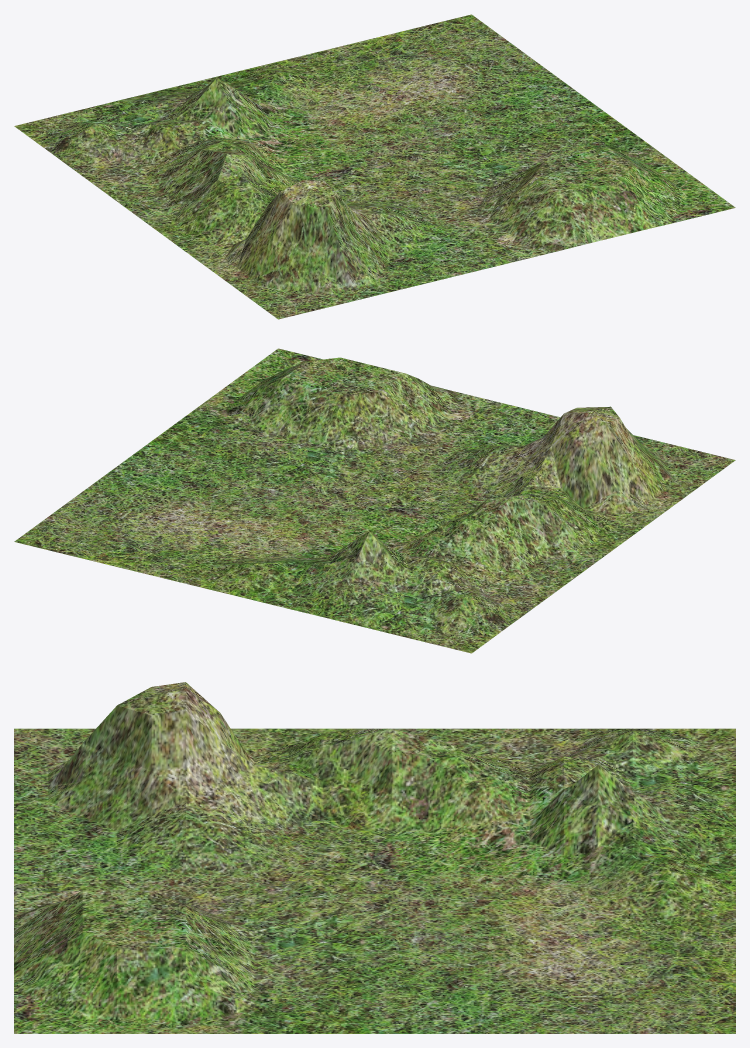
File: terrain.obj
The picture shows the model from 3 angles, top to bottom: view 1: azimuth 30°, elevation 25°; view 2: azimuth 150°, elevation 25°; view 3: azimuth 270°, elevation 25°; orthographic projection. The views are drawn at different scales.
Parts seen in each view (by area): view 1: Plane; view 2: Plane; view 3: Plane.
Part boxes in pixels (left/top/right/bottom): Plane: left=14, top=14, right=735, bottom=319; Plane: left=14, top=348, right=735, bottom=653; Plane: left=14, top=682, right=735, bottom=1033.
Bounding box in the file's own units: 20 × 3 × 20.
1 material, 1 textured.
